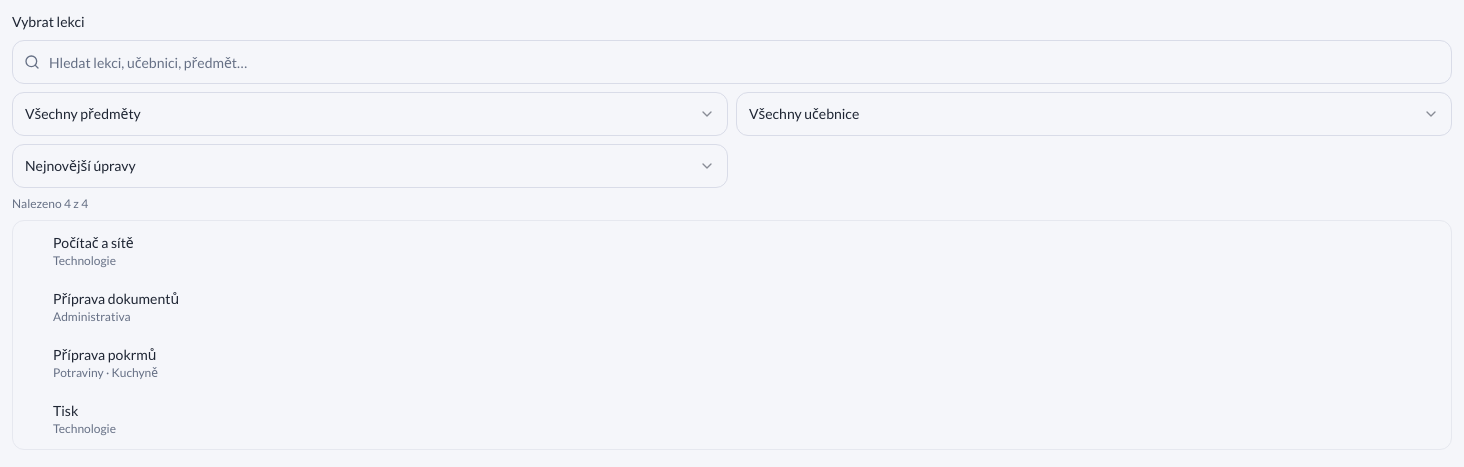
Test: LessonFinder › prázdný výsledek ukáže hlášku a zrušení filtrů
Type "xyz" into the search field at (732, 62), box [12,40,1452,84]
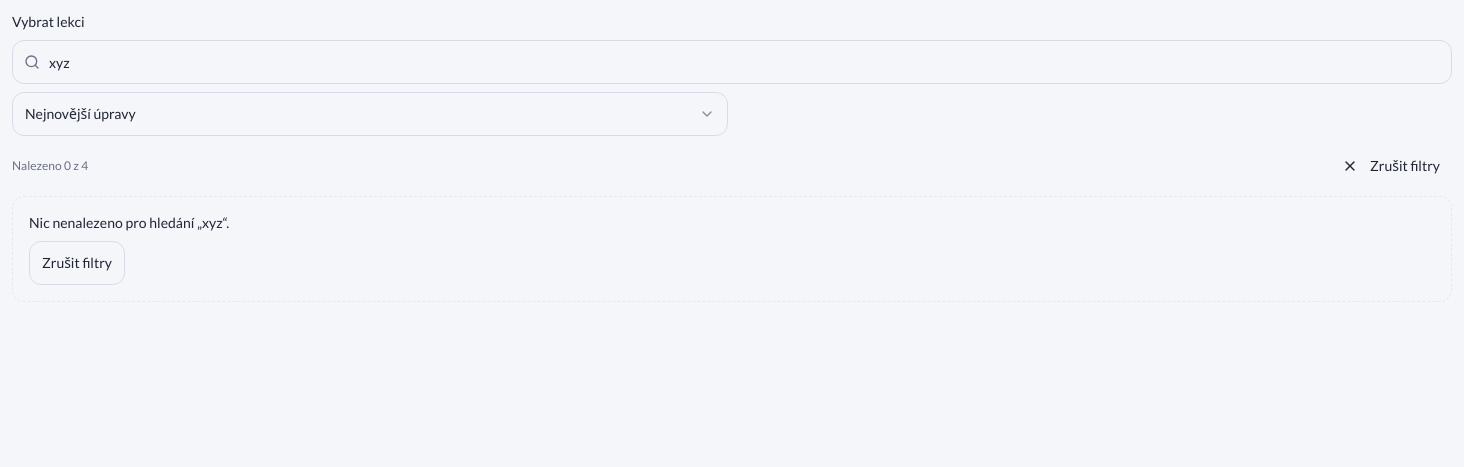
expect the text "Nic nenalezeno pro hledání „xyz“." is shown: met, box [29,214,229,231]
Click the 1st button "Zrušit filtry" at (1391, 166), box [1330,144,1452,188]
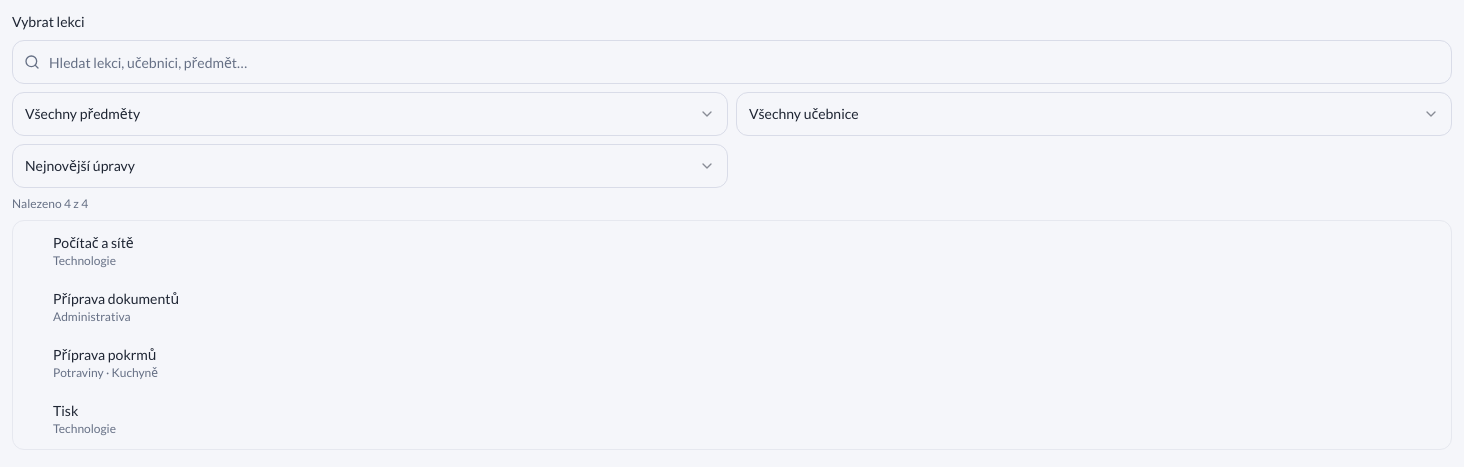
expect the text "Nalezeno 4 z 4" is shown: met, box [12,196,88,212]
